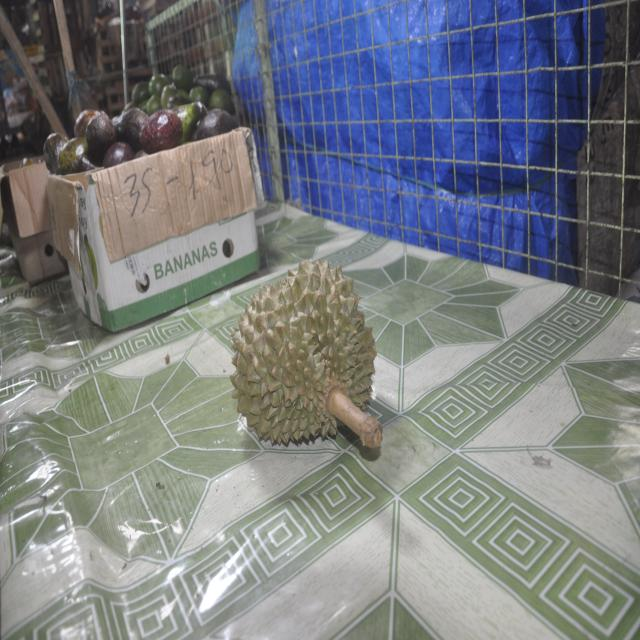mature: (231, 260, 382, 447)
